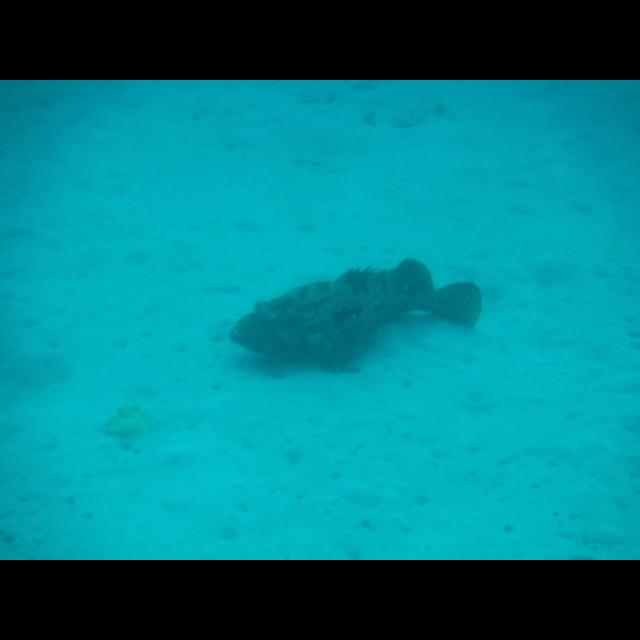Groupers: (227, 258, 488, 374)
